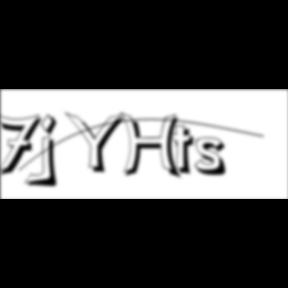7: (0, 111, 48, 179)
H: (120, 112, 186, 182)
Y: (64, 110, 130, 176)
j: (38, 113, 64, 191)
s: (194, 137, 234, 179)
t: (172, 124, 202, 179)
